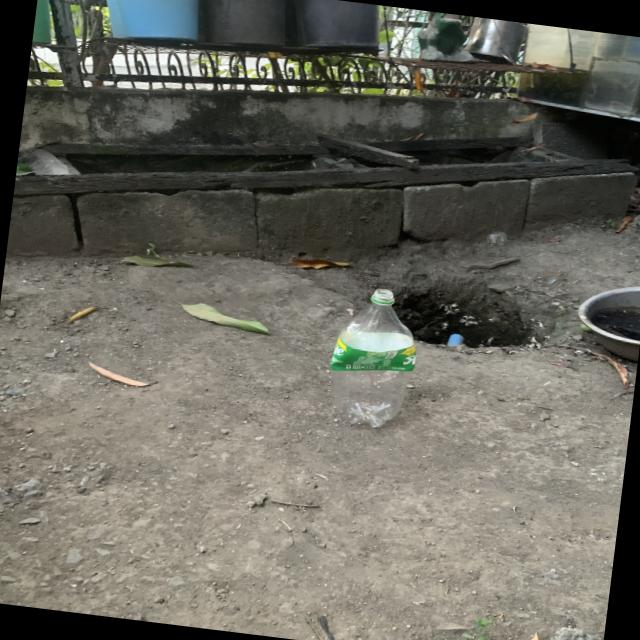Bottle: (330, 289, 416, 427)
